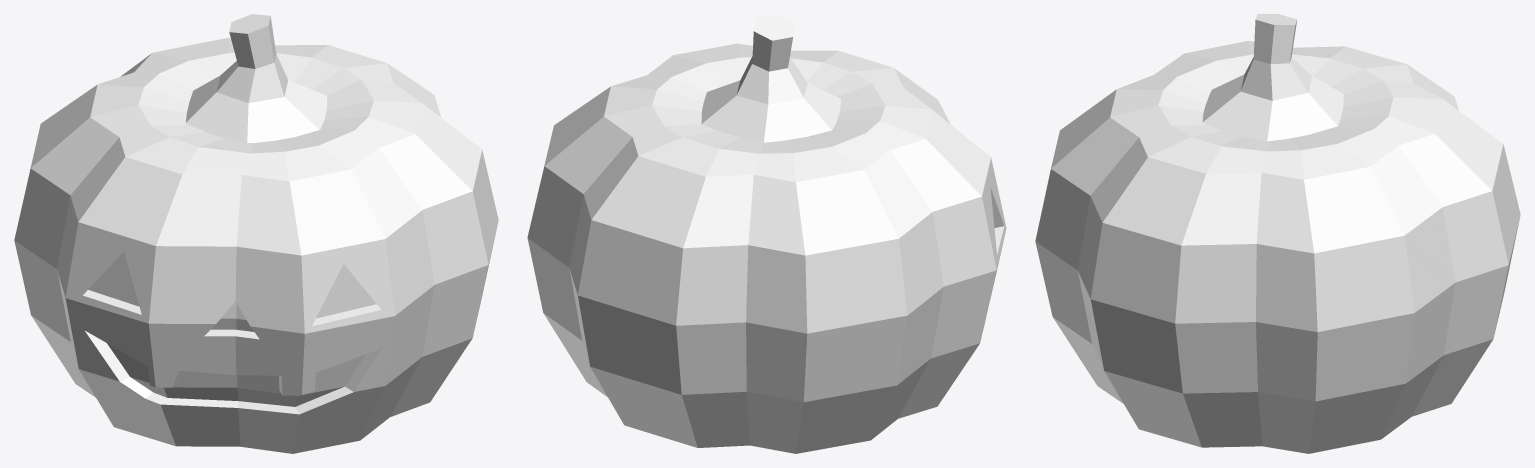
The model's file is pumpkin.fbx.
3 views of the same model, side by side, from view 1: azimuth 30°, elevation 25°; view 2: azimuth 150°, elevation 25°; view 3: azimuth 270°, elevation 25° (orthographic).
Visible parts, largest first — view 1: Pumpkin_A.017; view 2: Pumpkin_A.017; view 3: Pumpkin_A.017.
Boxes of the visible parts, x1,y1,x2,y2 form: Pumpkin_A.017: [14, 14, 498, 453]; Pumpkin_A.017: [527, 14, 1006, 453]; Pumpkin_A.017: [1035, 14, 1520, 453].
Size of the model in its own units: 7.92 by 6.78 by 7.88.
